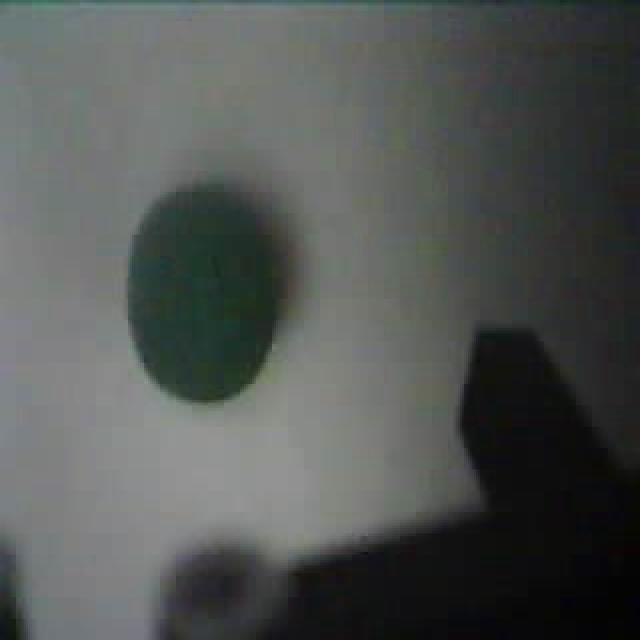green_ball: (124, 176, 286, 408)
